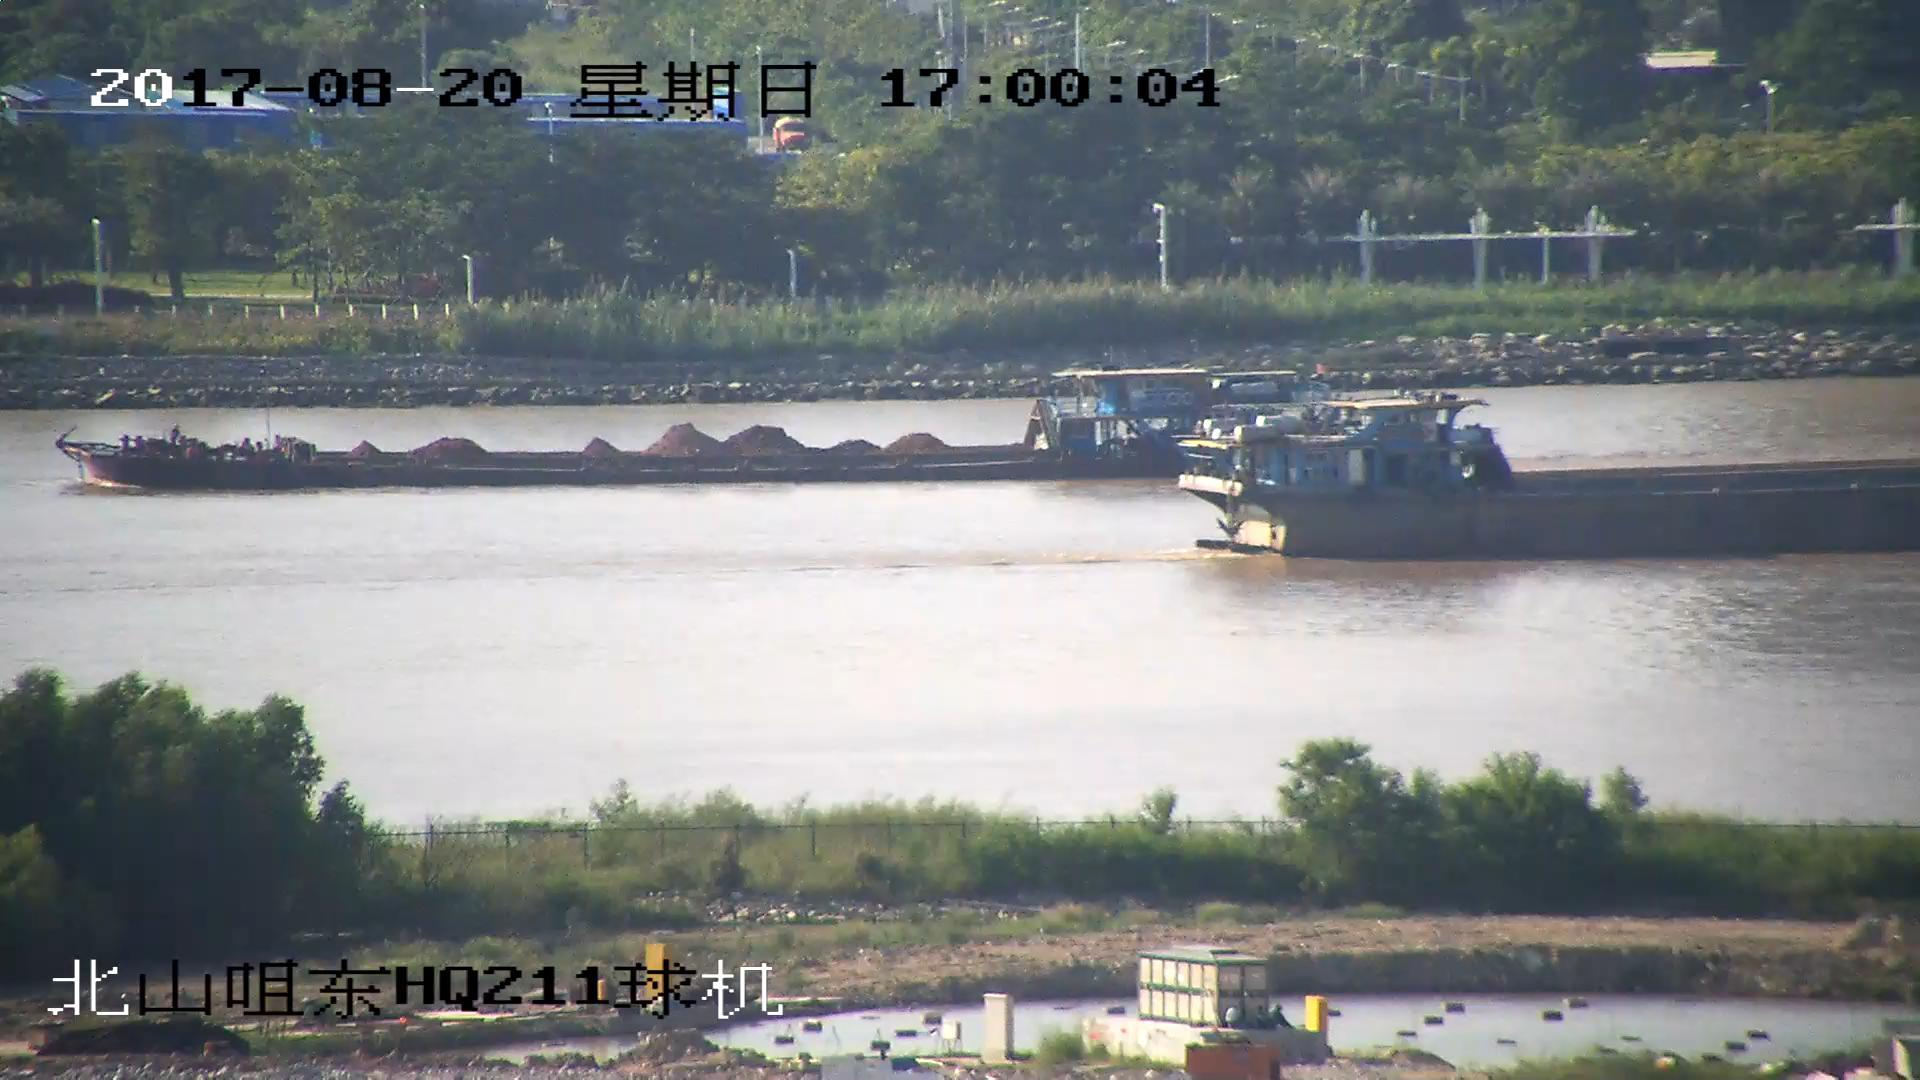Ship: (55, 367, 1323, 498), (1175, 400, 1920, 560)
